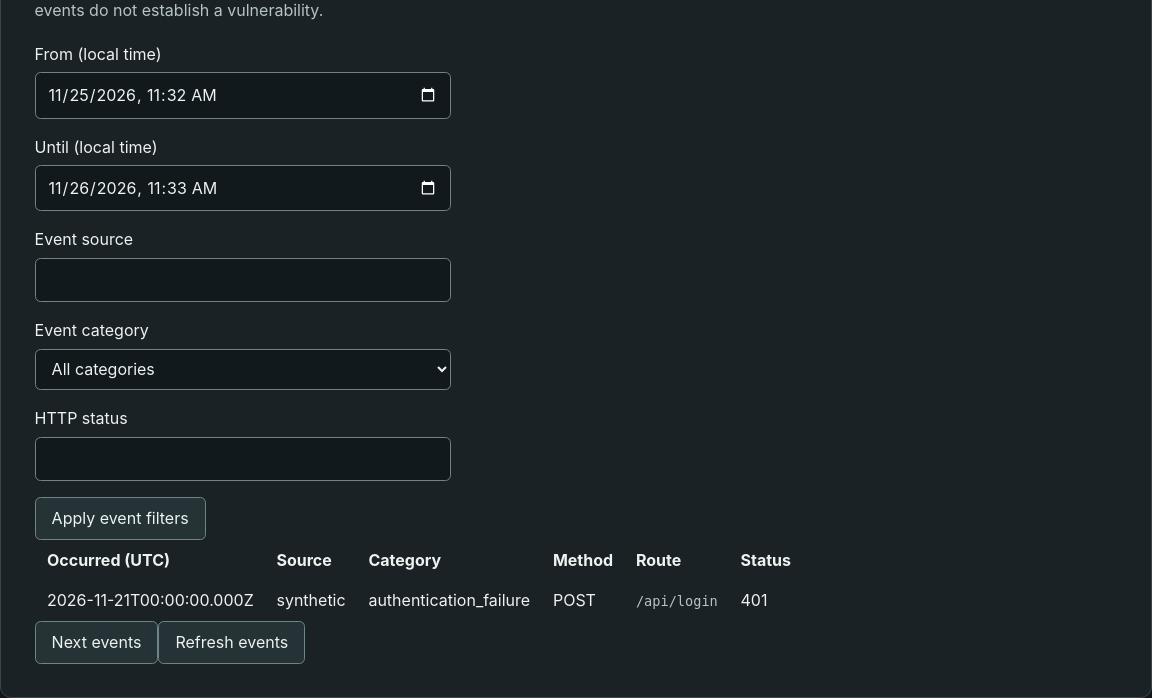
Test: pins pagination to the selected query and withholds viewer details
The width and height of the screenshot is (1152, 698).
(page scrolled)
Expected: the text "/api/login" is shown, [636,593,718,609]
Click the button "Next events" at (96, 642), box [35,621,158,664]
(page scrolled)
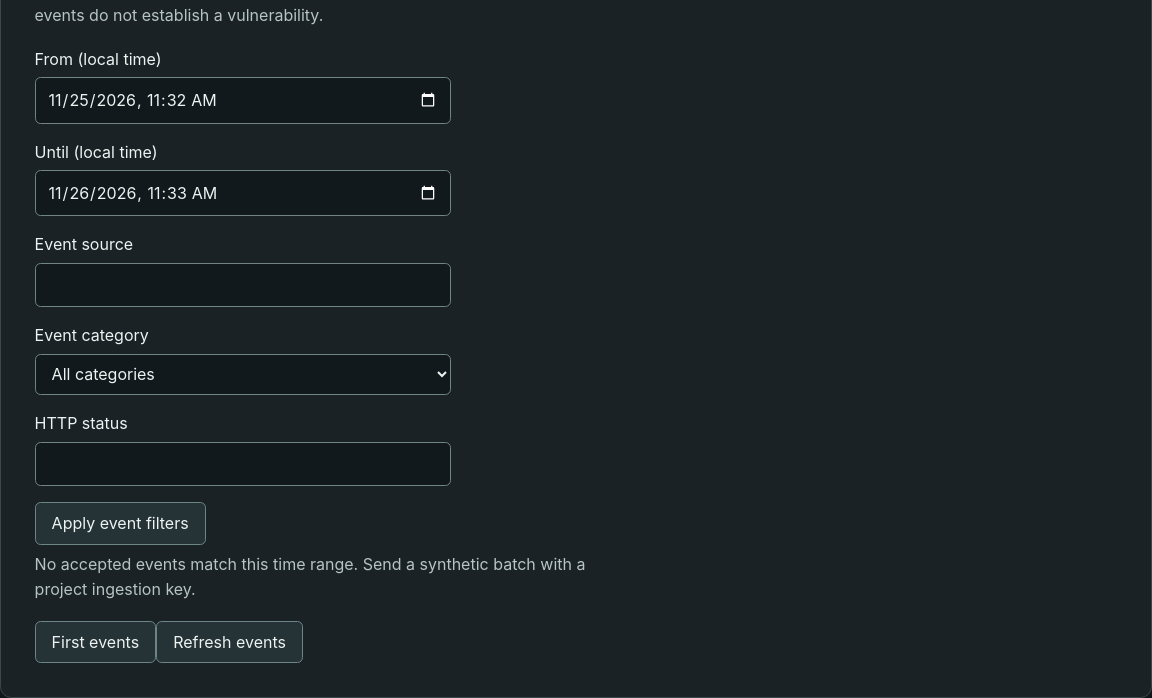
Now the text "No accepted events" is shown, box [35,554,586,599]
